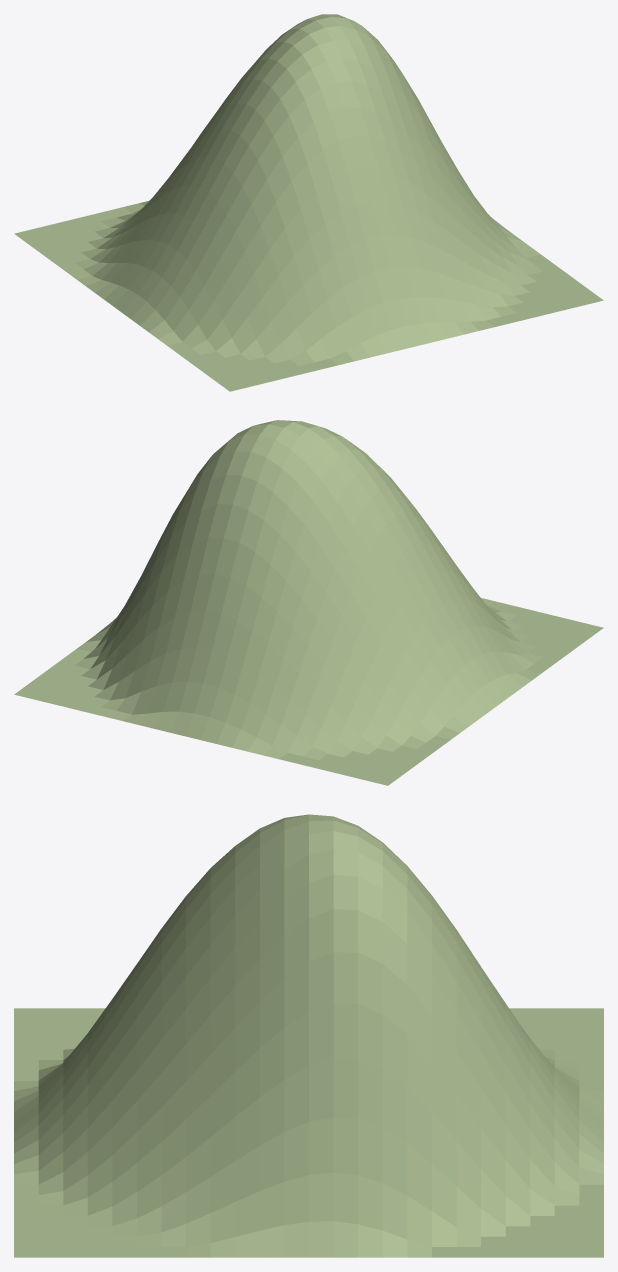
The model's file is terrain_hill.glb.
3 views of the same model, one above another, from view 1: azimuth 30°, elevation 25°; view 2: azimuth 150°, elevation 25°; view 3: azimuth 270°, elevation 25° (orthographic). The views are drawn at different scales.
Visible parts, largest first — view 1: m; view 2: m; view 3: m.
Part boxes in pixels (x1,y1,x2,y2): m: (14,14,603,391); m: (14,420,603,785); m: (14,814,603,1257).
Size of the model in its own units: 20 by 12.07 by 20.
